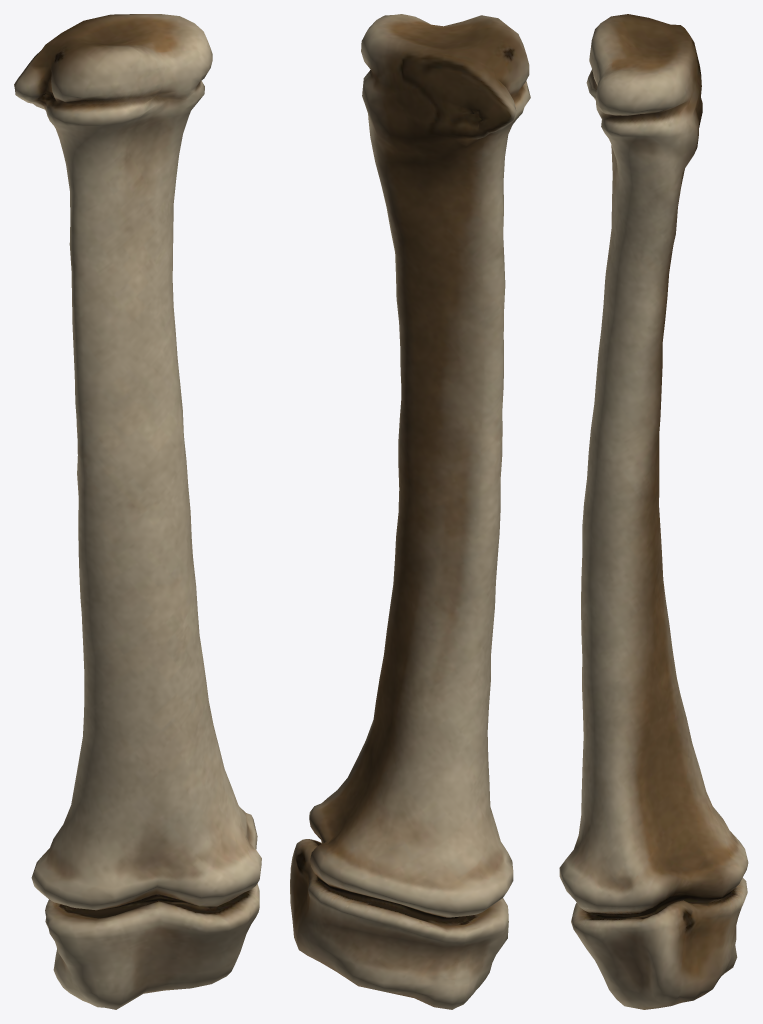
Rendered from Radius.glb.
3 views of the same model, side by side, from view 1: azimuth 30°, elevation 25°; view 2: azimuth 150°, elevation 25°; view 3: azimuth 270°, elevation 25° (orthographic). The views are drawn at different scales.
Visible parts, largest first — view 1: Radius_Left1:Group25495; view 2: Radius_Left1:Group25495; view 3: Radius_Left1:Group25495.
Part boxes in pixels (<box>): Radius_Left1:Group25495: <box>14,14,261,1009</box>; Radius_Left1:Group25495: <box>290,14,530,1009</box>; Radius_Left1:Group25495: <box>559,14,748,1009</box>.
Size of the model in its own units: 28.14 by 112 by 20.5.
1 material, 1 textured.
